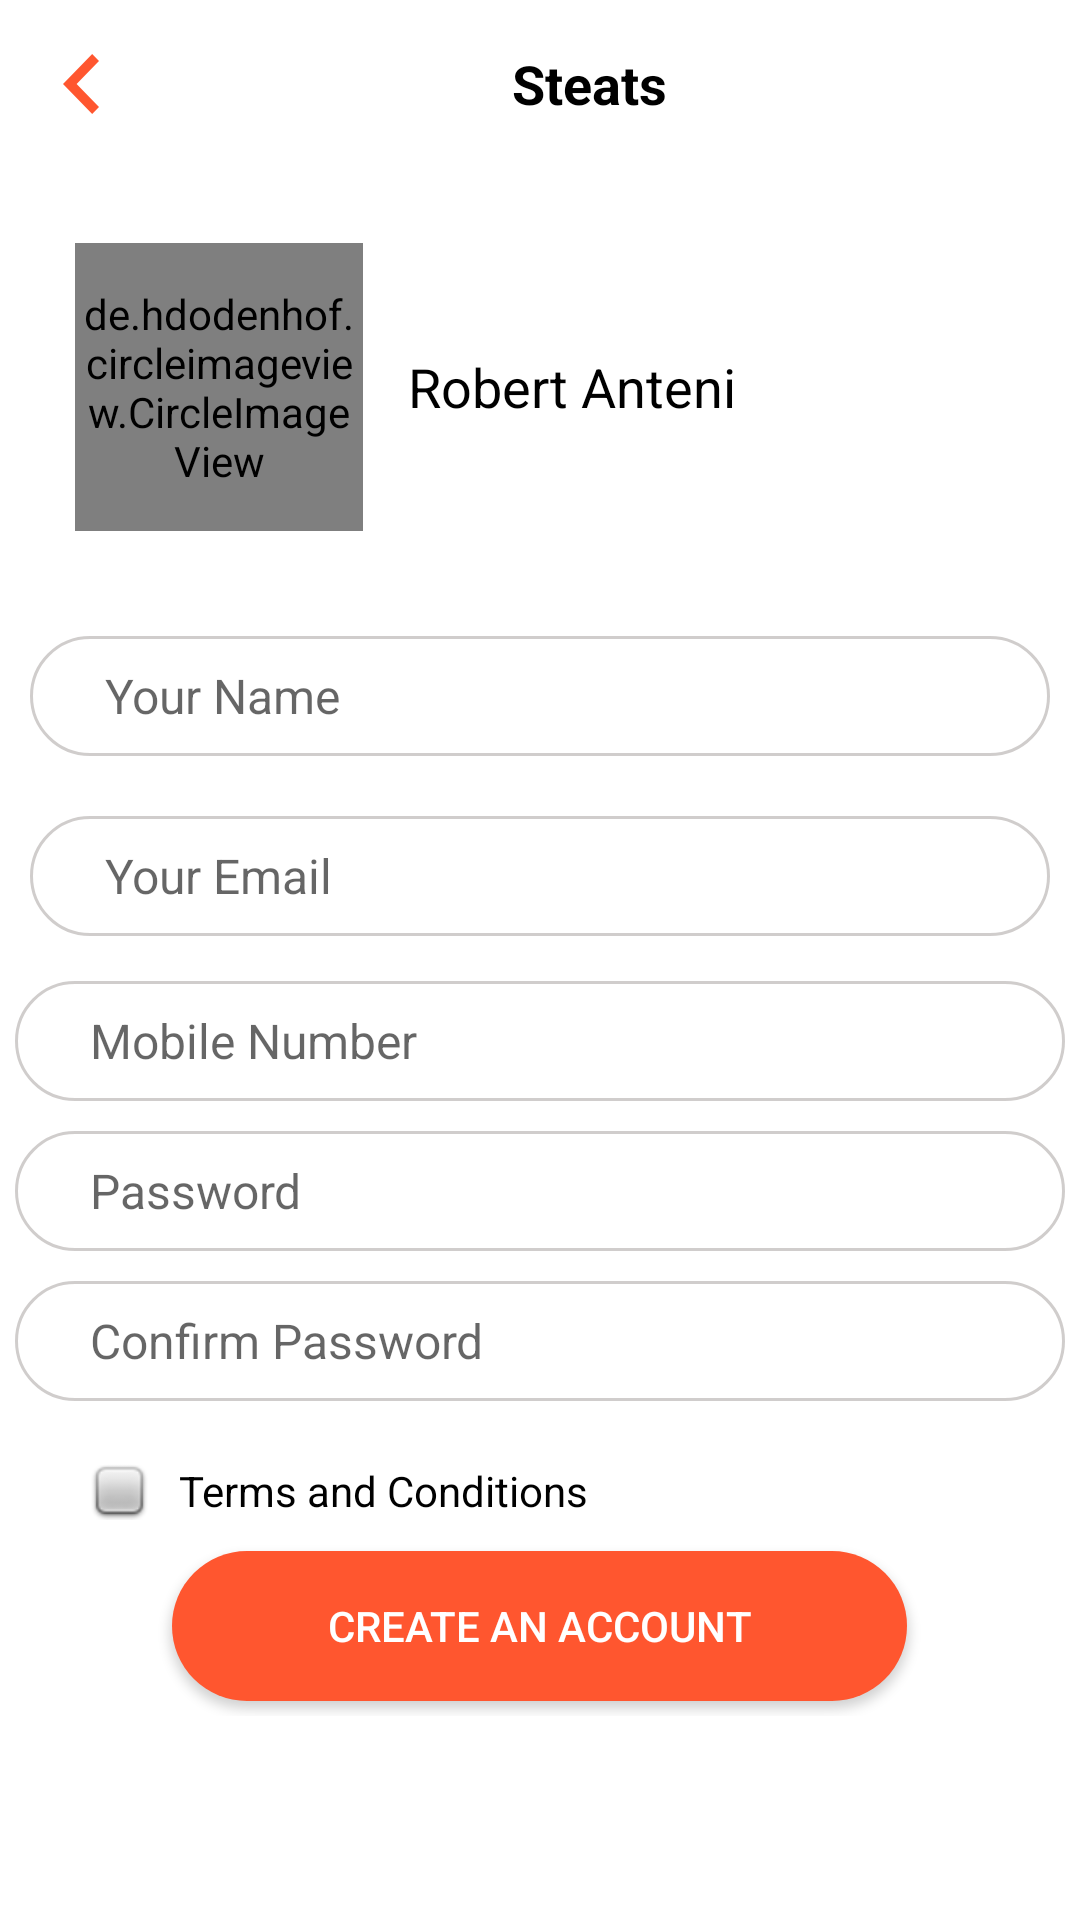

Icon click points for this 1080 × 1920 phone screenshot, format [x,y]:
back: [81,84]
